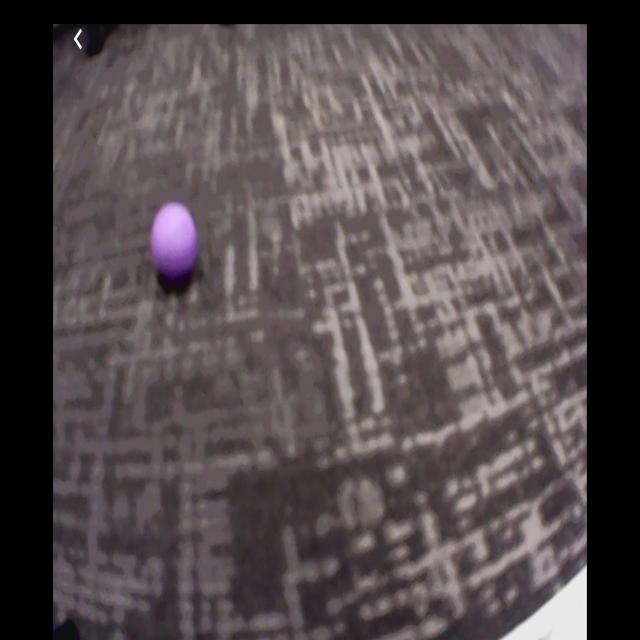ball: (152, 202, 196, 277)
